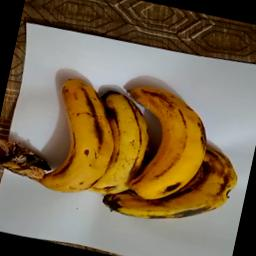Banana Unripe: (0, 59, 127, 202), (109, 70, 224, 211), (77, 71, 160, 214), (92, 162, 236, 237)
